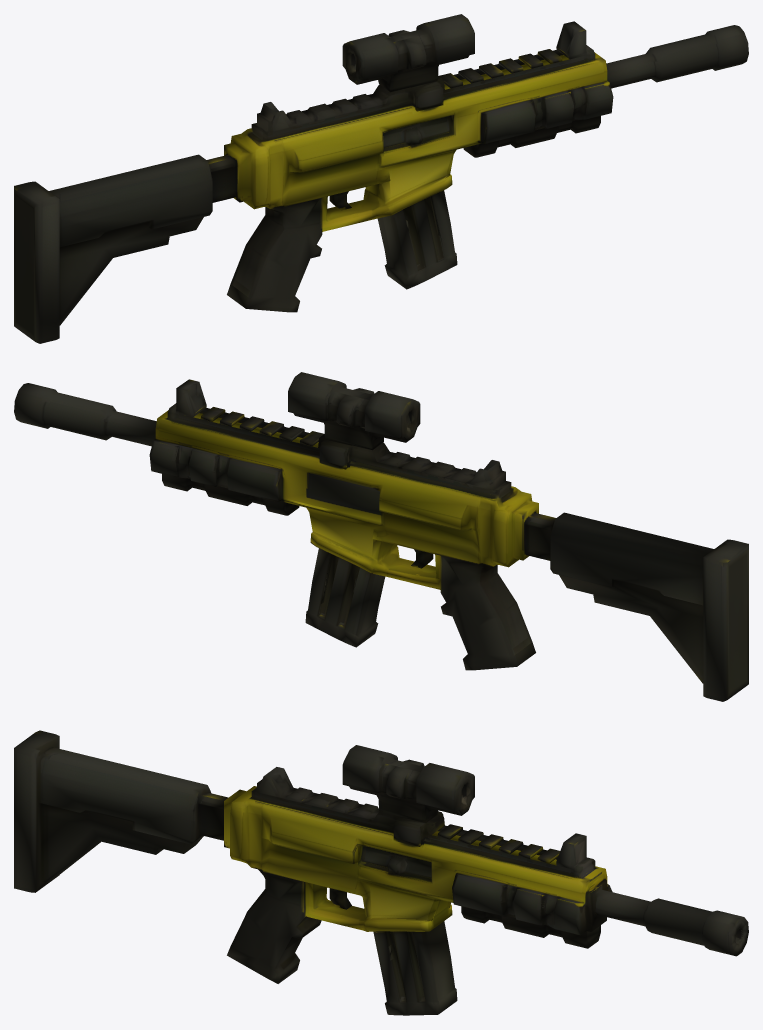
File: SMG Medic Low Poly.glb
The picture shows the model from 3 angles, top to bottom: view 1: azimuth 30°, elevation 25°; view 2: azimuth 150°, elevation 25°; view 3: azimuth 330°, elevation 25°; orthographic projection.
Visible parts, largest first — view 1: material; view 2: material; view 3: material.
Part boxes in pixels (bbox=[...]): material: bbox=[14, 14, 748, 343]; material: bbox=[14, 372, 748, 701]; material: bbox=[14, 730, 748, 1015].
Bounding box in the file's own units: 1.9 × 0.6346 × 0.1621.
1 material, 1 textured.
